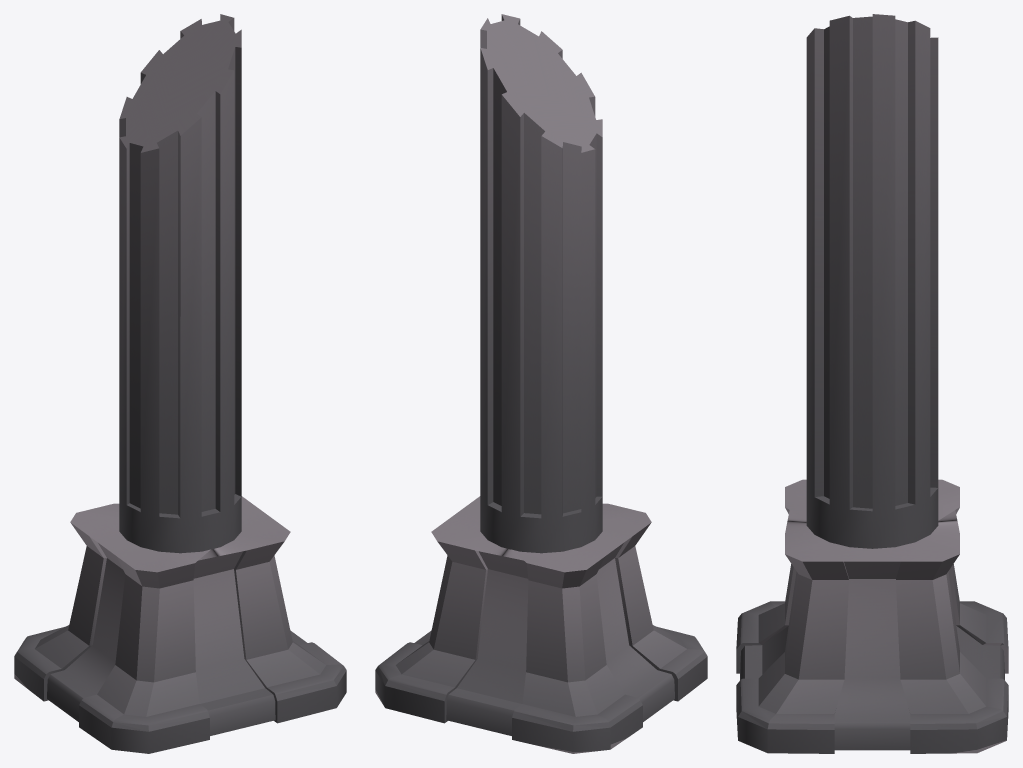
The model's file is ColonneBroken.FBX.
3 renders of one model, left to right at view 1: azimuth 30°, elevation 25°; view 2: azimuth 150°, elevation 25°; view 3: azimuth 270°, elevation 25°, orthographic. The views are drawn at different scales.
Parts seen in each view (by area): view 1: Coloumn_Broken01; view 2: Coloumn_Broken01; view 3: Coloumn_Broken01.
Part boxes in pixels (x1=…): Coloumn_Broken01: x1=14, y1=14, x2=346, y2=753; Coloumn_Broken01: x1=375, y1=14, x2=707, y2=753; Coloumn_Broken01: x1=736, y1=14, x2=1008, y2=753.
Size of the model in its own units: 245 by 644 by 225.
